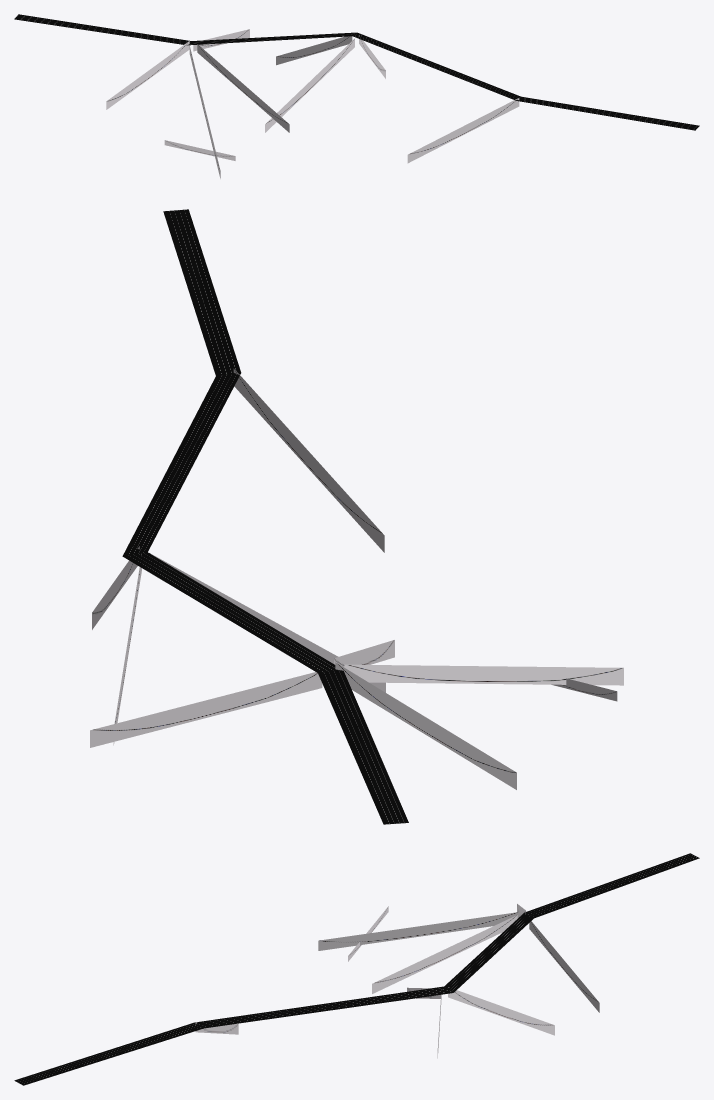
Rendered from w_townwires_03.obj.
3 renders of one model, top to bottom at view 1: azimuth 30°, elevation 25°; view 2: azimuth 150°, elevation 25°; view 3: azimuth 270°, elevation 25°, orthographic. The views are drawn at different scales.
Parts seen in each view (by area): view 1: w_townwires_03; view 2: w_townwires_03; view 3: w_townwires_03.
Boxes of the visible parts, box(x1,y1,x2,y2) form: w_townwires_03: box(14, 14, 699, 178); w_townwires_03: box(90, 209, 623, 824); w_townwires_03: box(14, 853, 699, 1085).
Size of the model in its own units: 71.68 by 10.51 by 88.91.
Materials: 2 (2 with a texture image).
